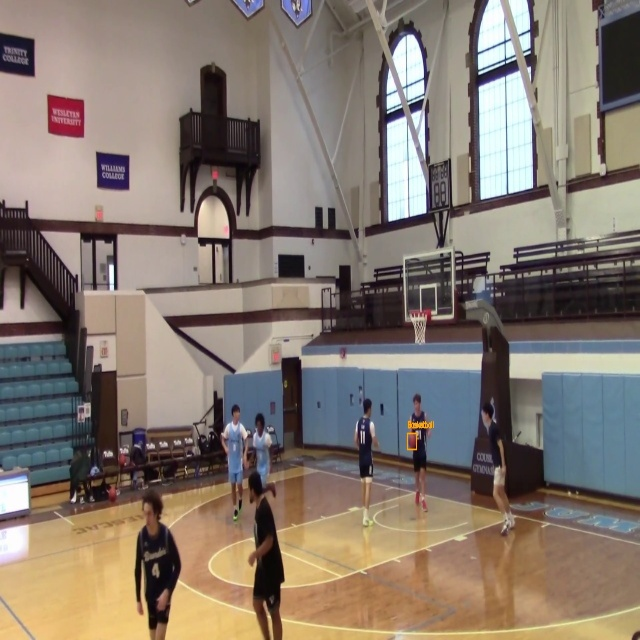Basketball: (408, 433, 417, 449)
